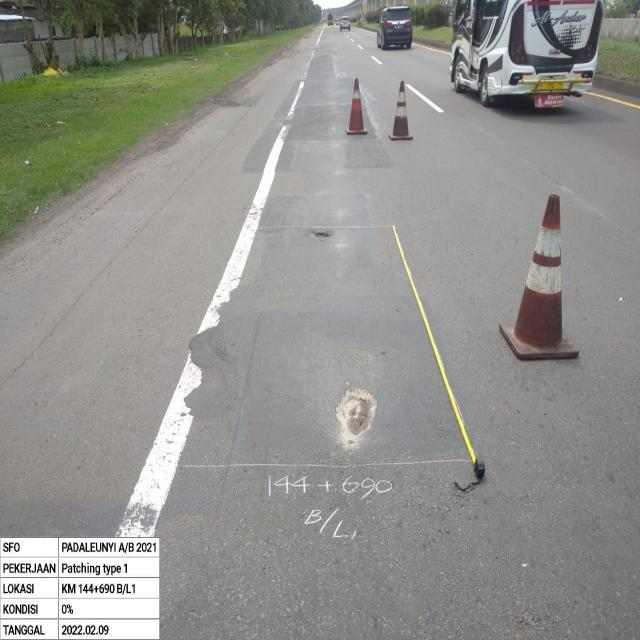Buraco: (332, 383, 382, 455), (307, 227, 337, 243), (221, 98, 244, 109)
